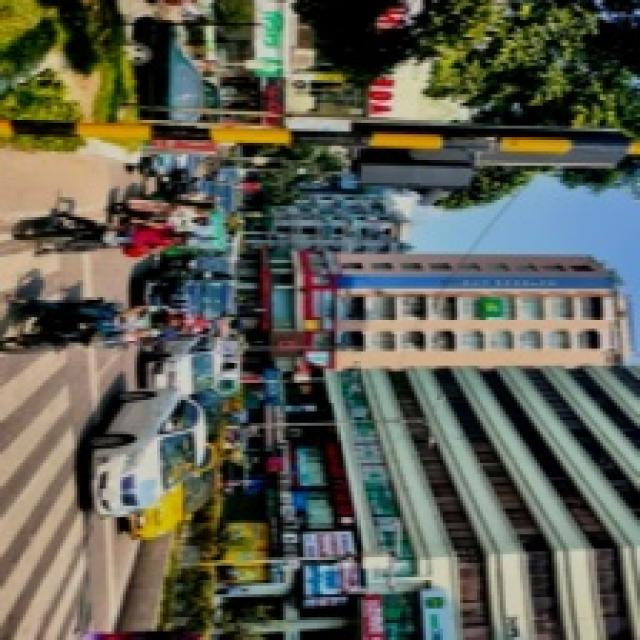bike: (82, 393, 208, 522), (10, 299, 138, 357), (149, 336, 228, 401), (24, 217, 148, 257)
car: (84, 399, 211, 522), (129, 13, 218, 173), (146, 267, 242, 335), (154, 333, 229, 398)
